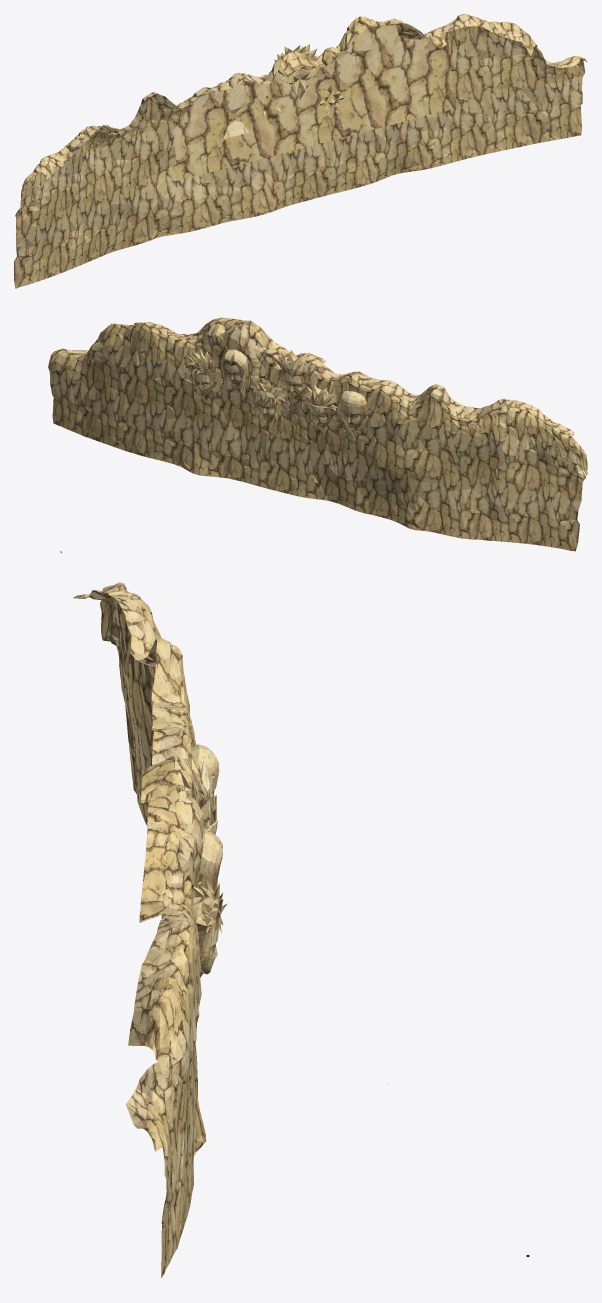
Rendered from six_hokage_mountain.glb.
3 views of the same model, one above another, from view 1: azimuth 30°, elevation 25°; view 2: azimuth 150°, elevation 25°; view 3: azimuth 270°, elevation 25° (orthographic). The views are drawn at different scales.
Visible parts, largest first — view 1: mesh_16_479_mat_122_0, mesh_16_390_mat_122_0, mesh_16_389_mat_200_0; view 2: mesh_16_479_mat_122_0, mesh_16_389_mat_200_0, mesh_28_534_mat_122_0; view 3: mesh_16_479_mat_122_0, mesh_16_389_mat_200_0.
Boxes of the visible parts, box(x1,y1,x2,y2) form: mesh_16_479_mat_122_0: box(14, 14, 587, 288); mesh_16_390_mat_122_0: box(173, 25, 454, 180); mesh_16_389_mat_200_0: box(221, 44, 344, 141); mesh_16_479_mat_122_0: box(48, 317, 587, 551); mesh_16_389_mat_200_0: box(186, 348, 368, 430); mesh_28_534_mat_122_0: box(185, 340, 374, 436); mesh_16_479_mat_122_0: box(73, 582, 387, 1277); mesh_16_389_mat_200_0: box(174, 744, 227, 977).
Bounding box in the file's own units: 112329 × 38928 × 42319.
Materials: 26 (25 with a texture image).
